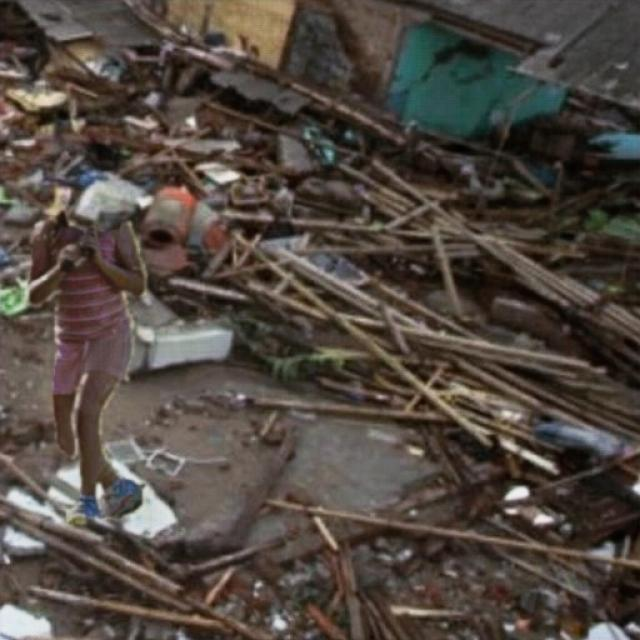Person in Rubble: (27, 212, 146, 522)
